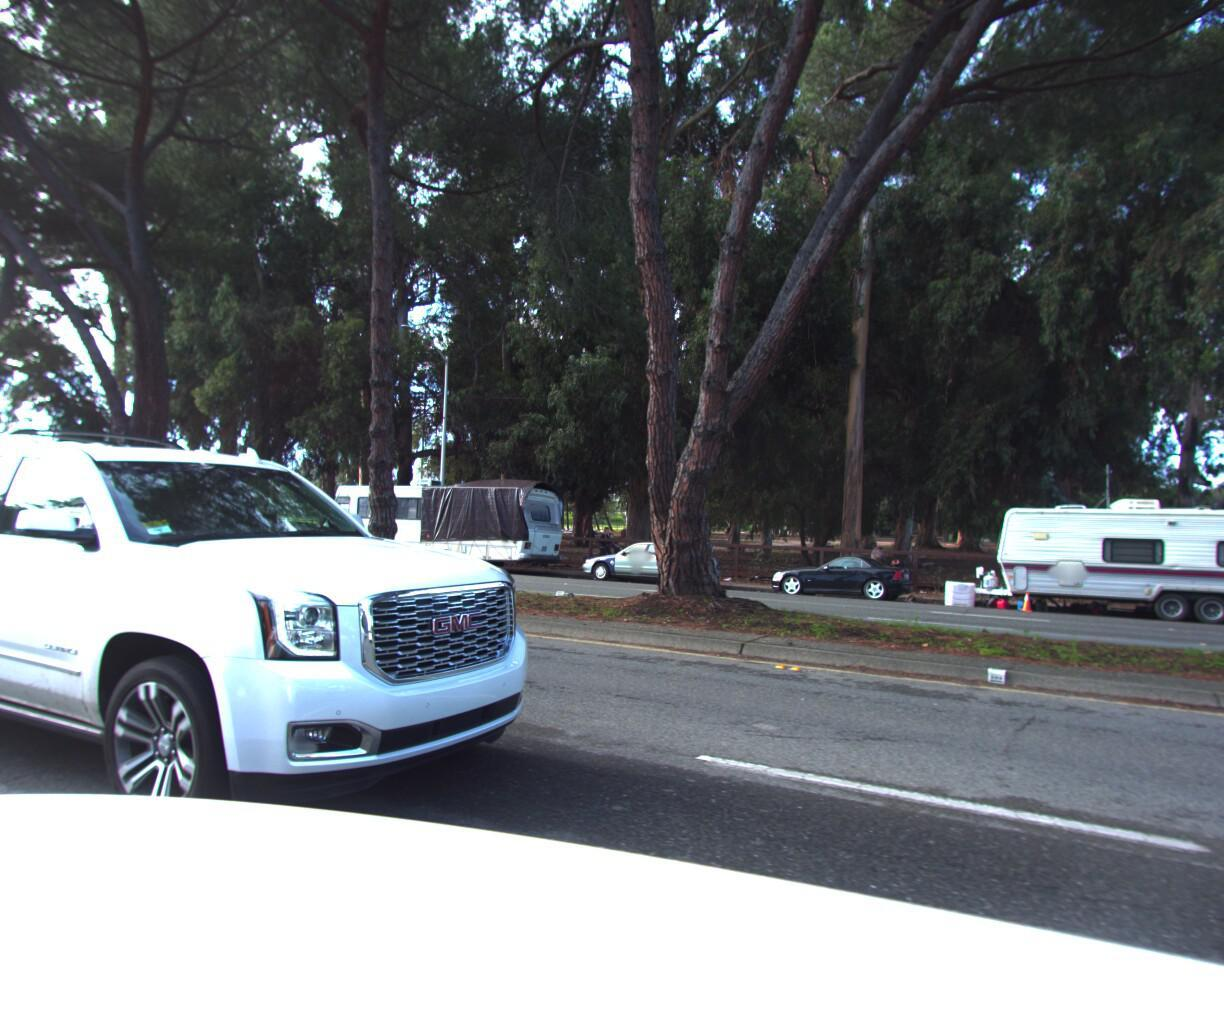car: (0, 388, 590, 929), (756, 544, 918, 603), (566, 534, 729, 589)
other_vehicle: (974, 494, 1224, 636), (306, 471, 575, 576)
